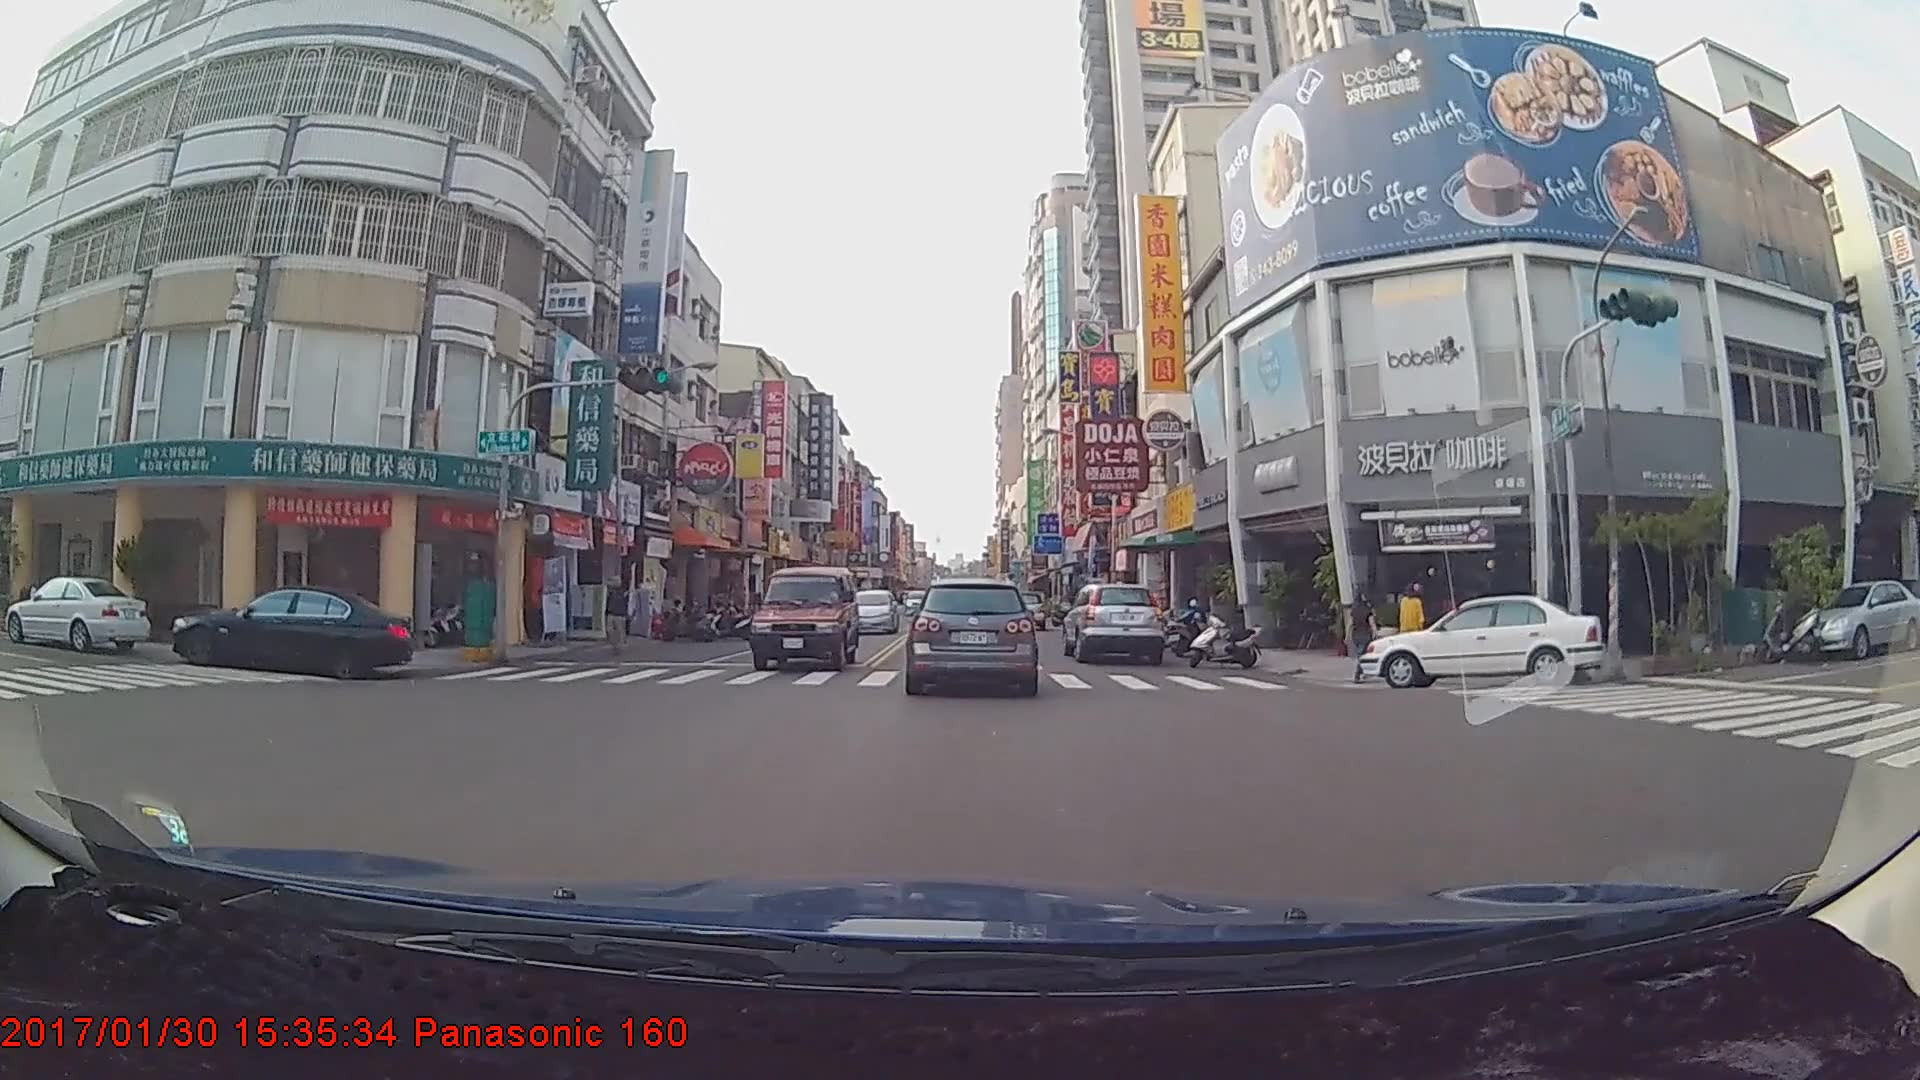pedestrian: (1350, 593, 1383, 687), (1399, 584, 1431, 668), (604, 574, 633, 653)
vehicle: (1356, 593, 1607, 688), (169, 579, 413, 677), (907, 580, 1036, 692), (745, 563, 859, 671), (0, 574, 149, 654), (1791, 579, 1920, 660), (1060, 579, 1166, 665), (844, 587, 899, 632)
